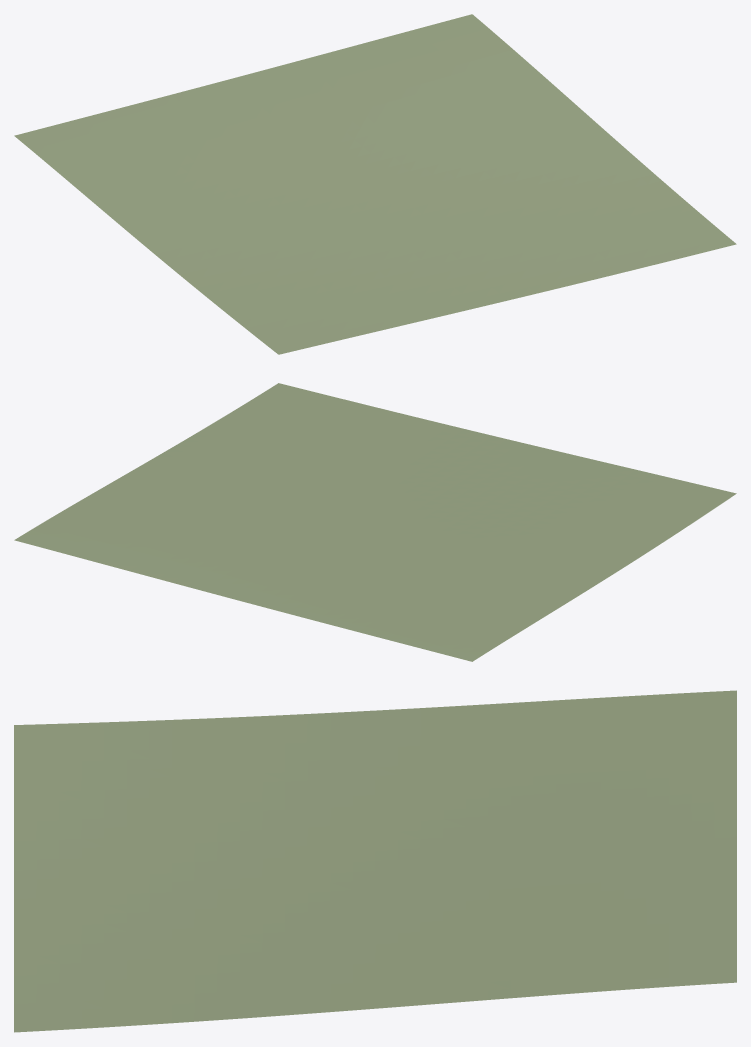
File: desert-21-23.glb
The picture shows the model from 3 angles, top to bottom: view 1: azimuth 30°, elevation 25°; view 2: azimuth 150°, elevation 25°; view 3: azimuth 270°, elevation 25°; orthographic projection. The views are drawn at different scales.
Parts seen in each view (by area): view 1: desert-21-23; view 2: desert-21-23; view 3: desert-21-23.
Boxes of the visible parts, <box> form: desert-21-23: <box>14,14,736,354</box>; desert-21-23: <box>14,383,736,661</box>; desert-21-23: <box>14,690,736,1032</box>.
Size of the model in its own units: 512 by 39.54 by 512.
